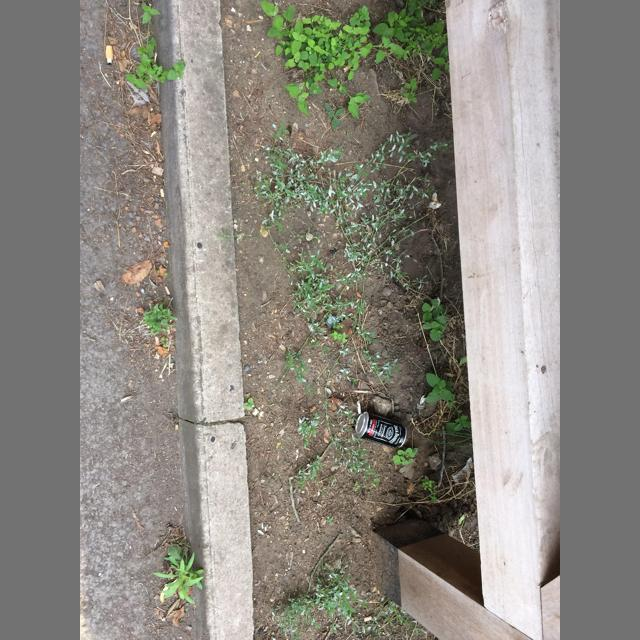litter: (355, 411, 407, 448), (106, 46, 113, 65), (326, 316, 338, 327)
